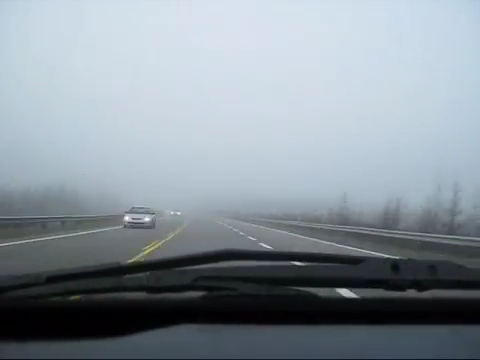car: (123, 205, 157, 229), (169, 207, 181, 217)
